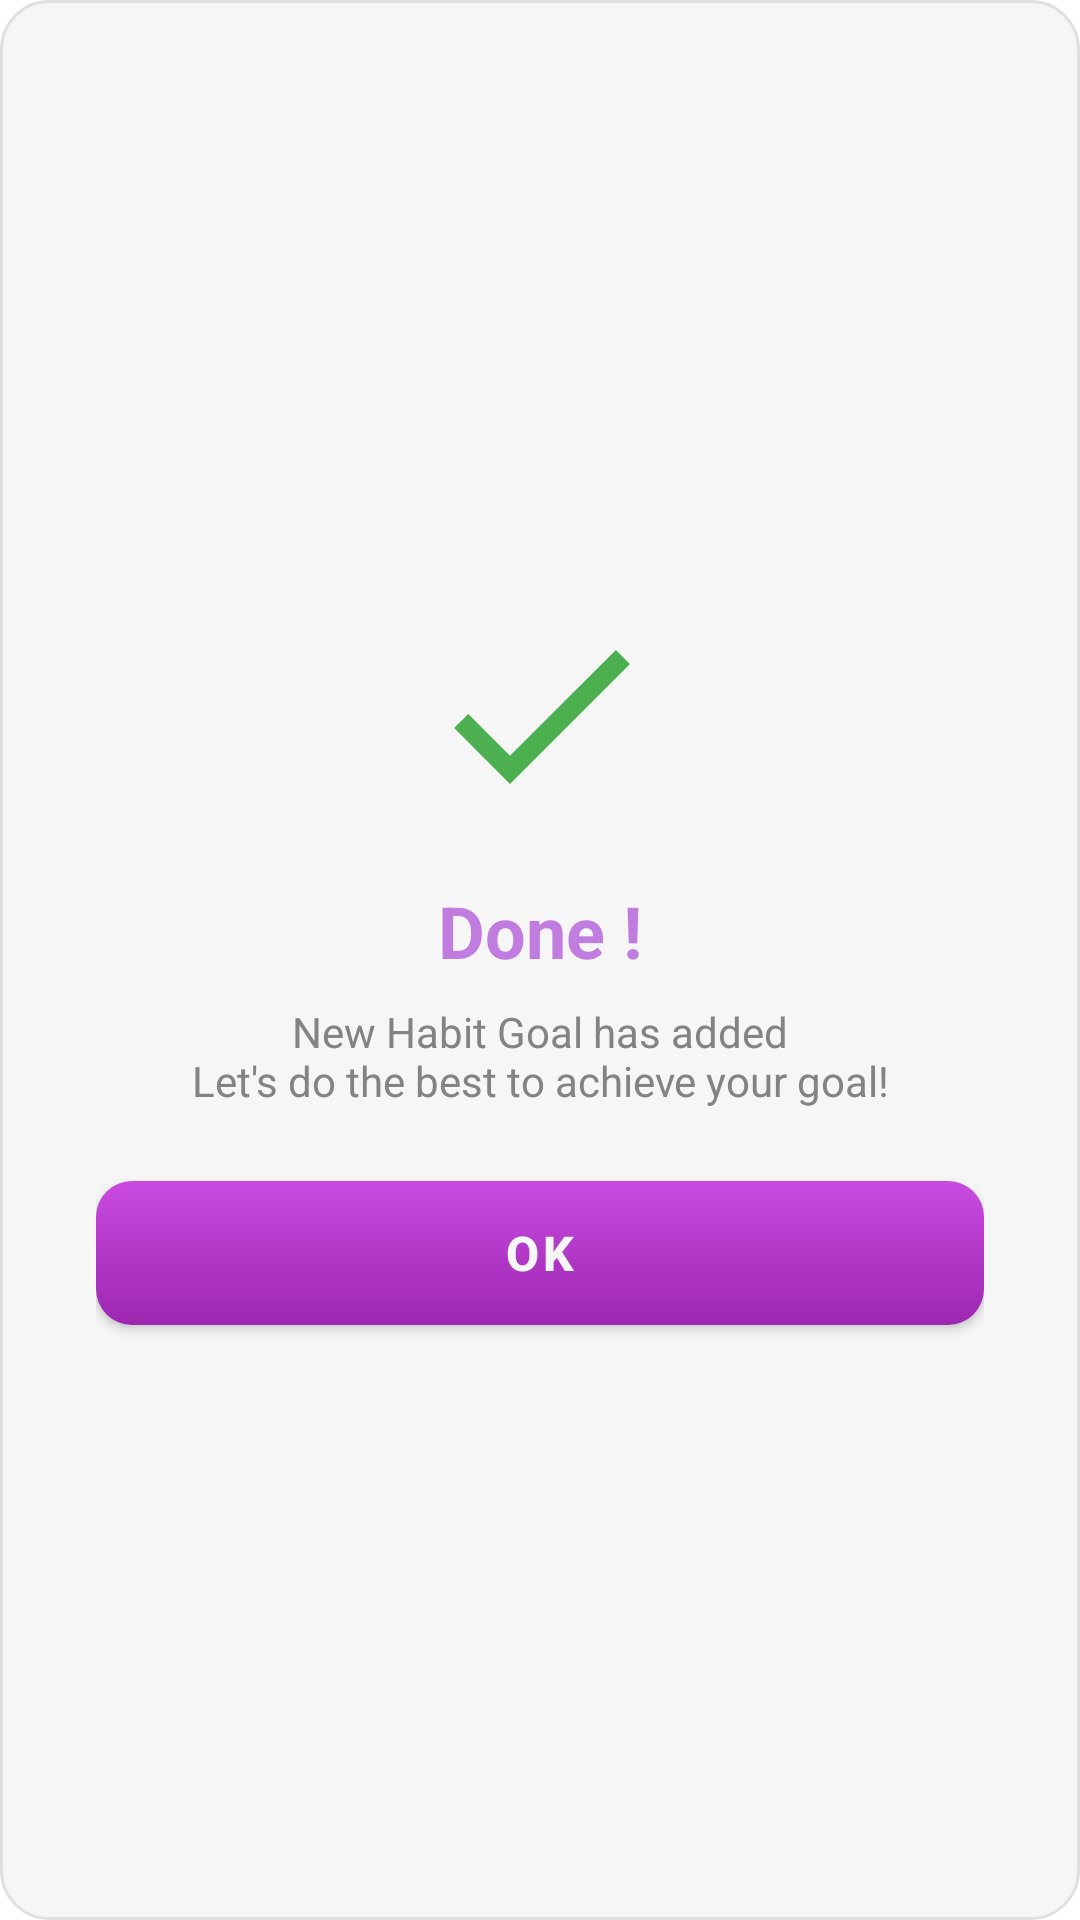

Icon bounding boxes for this 1080×1920 phone screenshot, format (x1, y1, x2, y2):
success: (454, 650, 630, 784)
